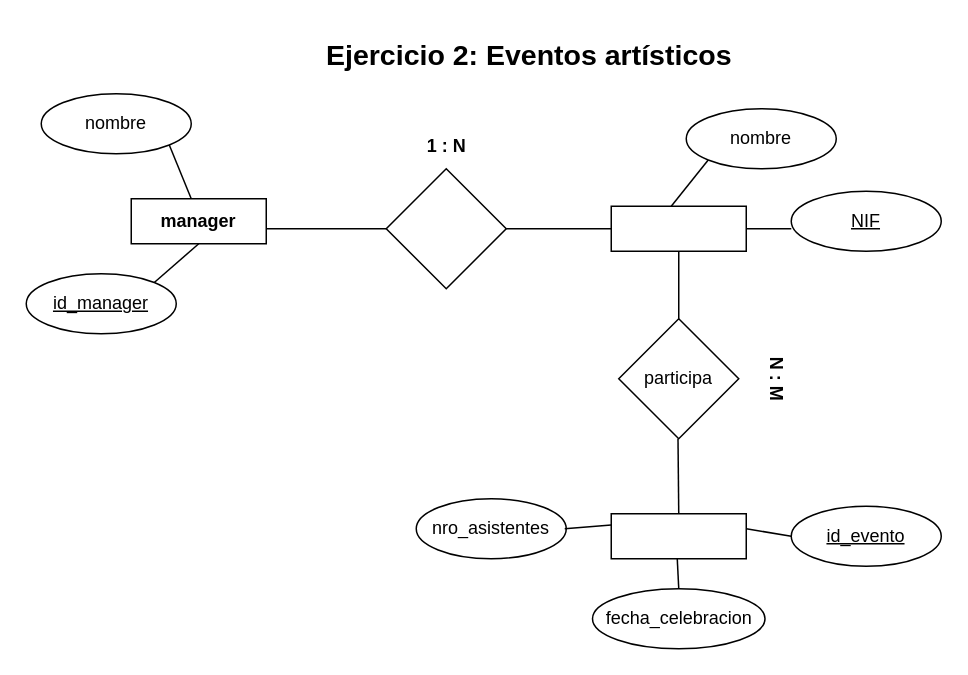
Some shapes in this 968 by 675 pixel diagram are drawn without their labels. Each missing label, with the centre of its shape:
artista: point 678,228
evento: point 678,535
representa: point 445,228
